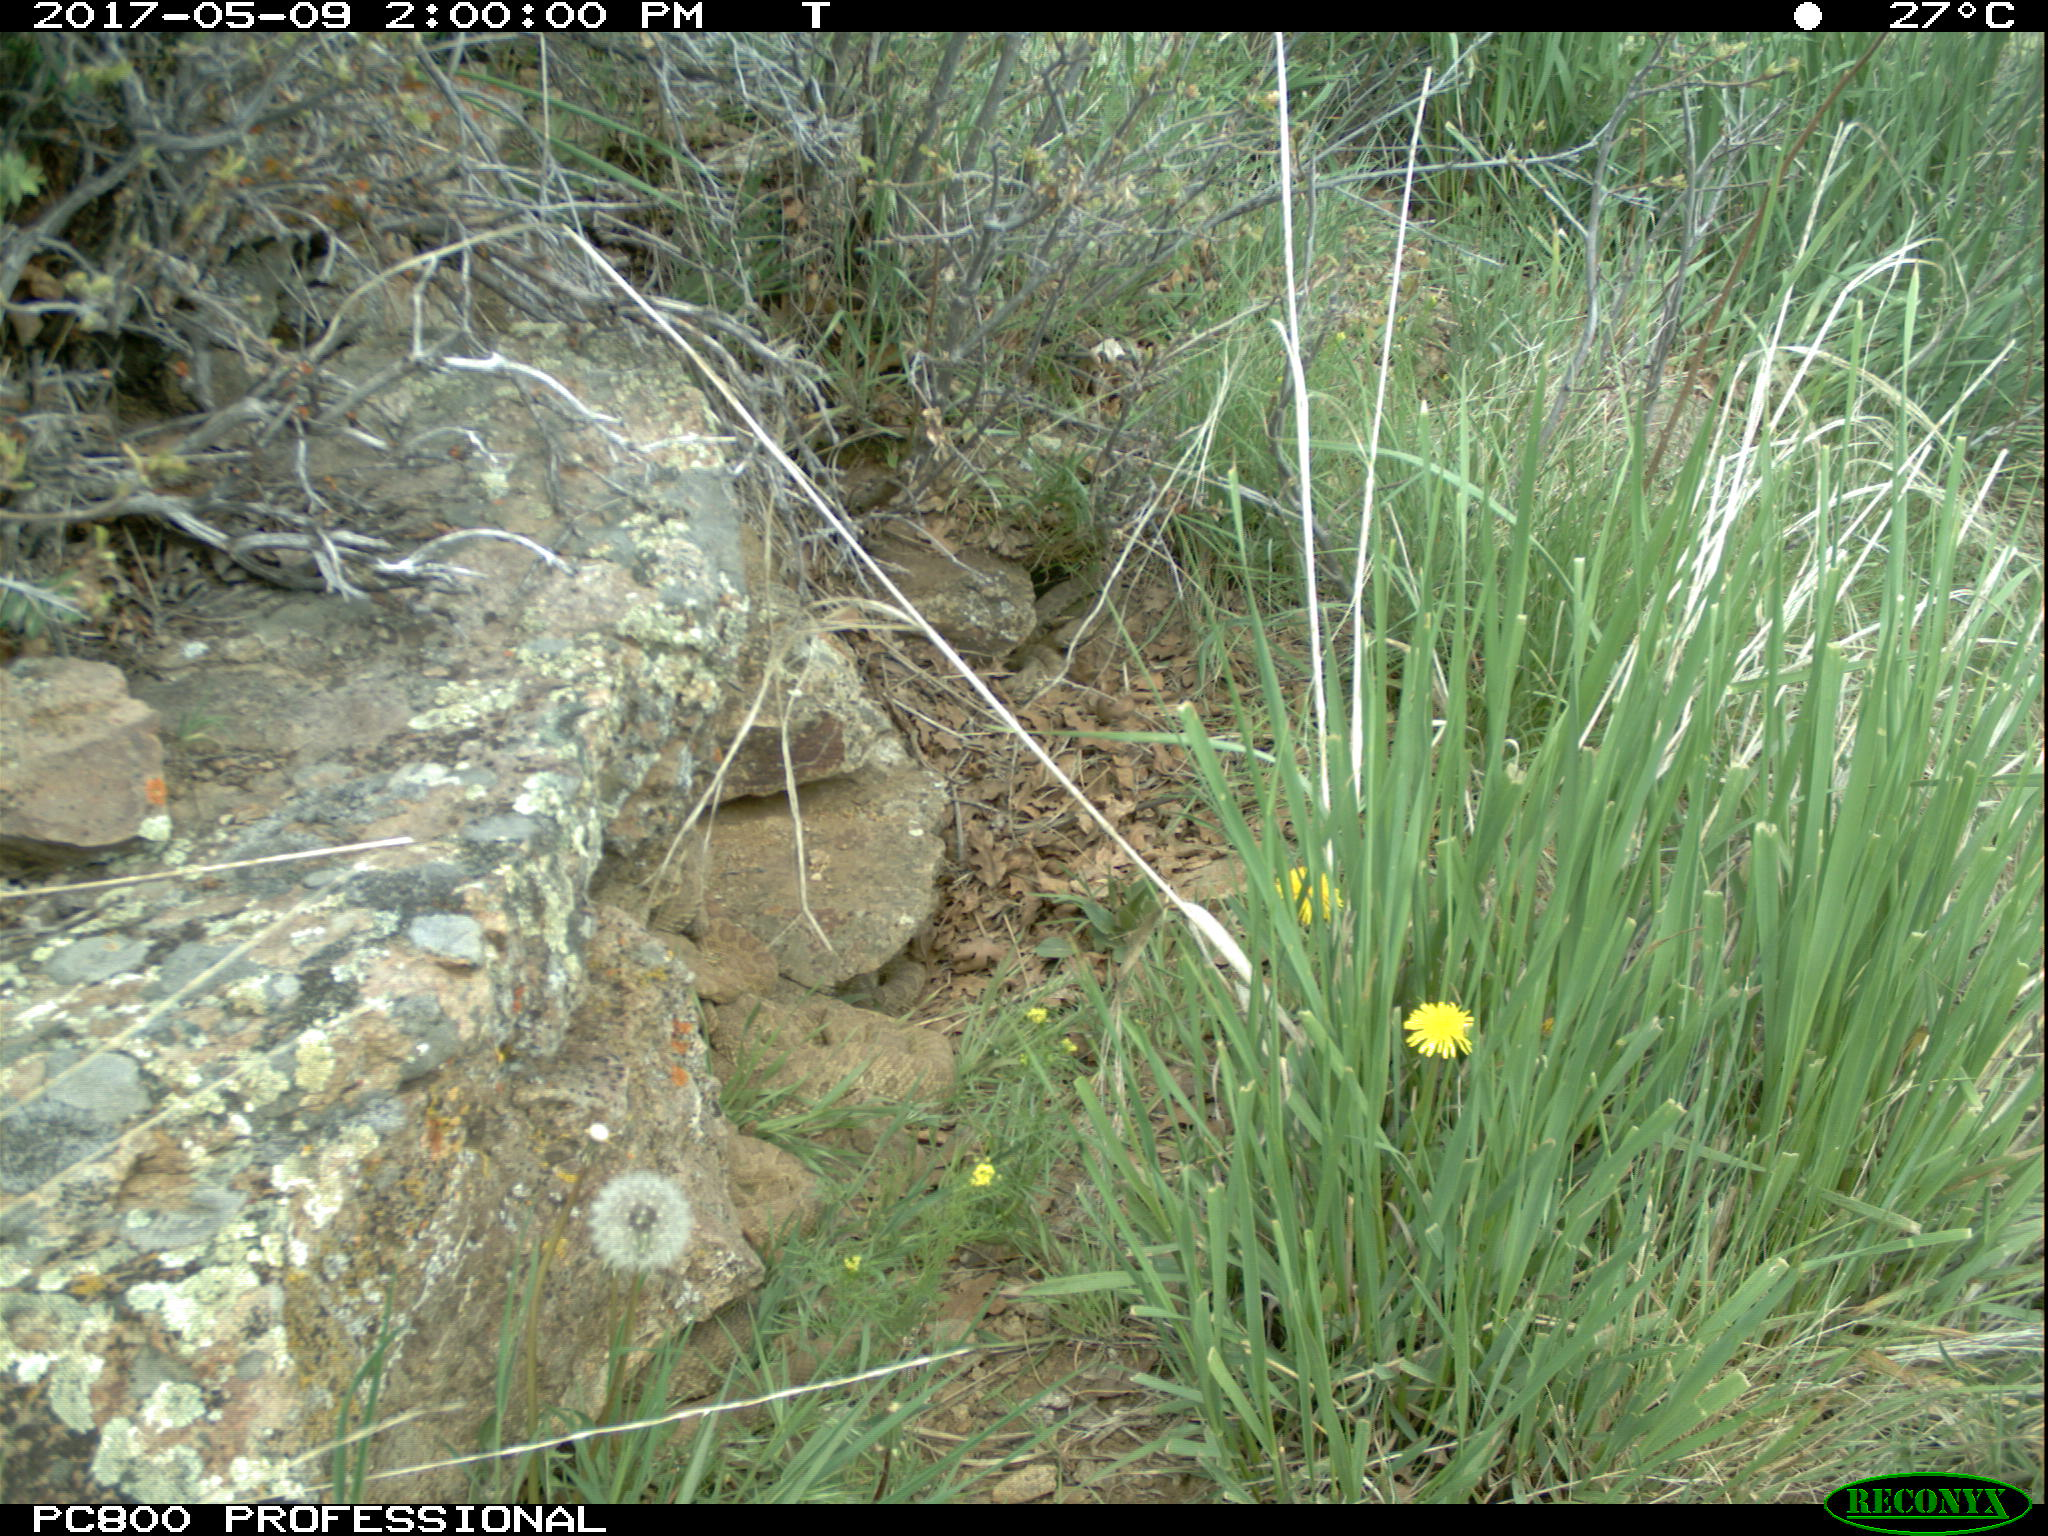snake: (676, 887, 961, 1107), (614, 1321, 821, 1442), (1027, 571, 1151, 650)
